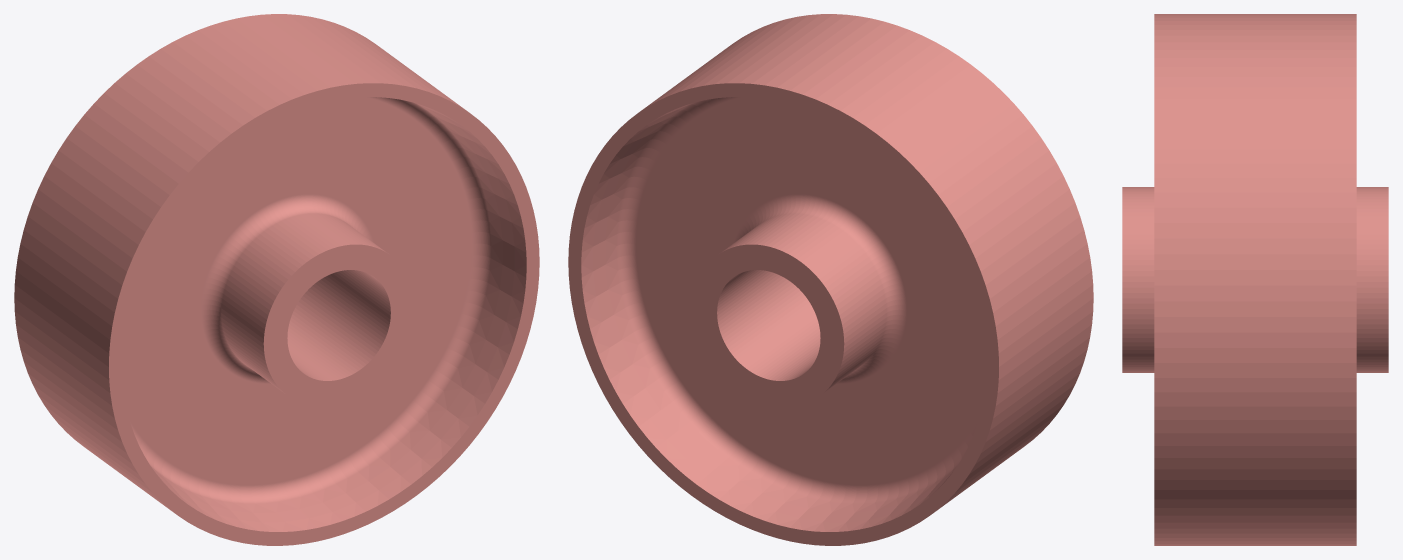
File: WHEEL.glb
The picture shows the model from 3 angles, left to right: view 1: azimuth 30°, elevation 25°; view 2: azimuth 150°, elevation 25°; view 3: azimuth 270°, elevation 25°; orthographic projection. The views are drawn at different scales.
Parts seen in each view (by area): view 1: WHEEL; view 2: WHEEL; view 3: WHEEL.
Boxes of the visible parts, x1,y1,x2,y2 form: WHEEL: (14,14,539,545); WHEEL: (568,14,1093,545); WHEEL: (1122,14,1388,545).
Size of the model in its own units: 100 by 99.96 by 50.
